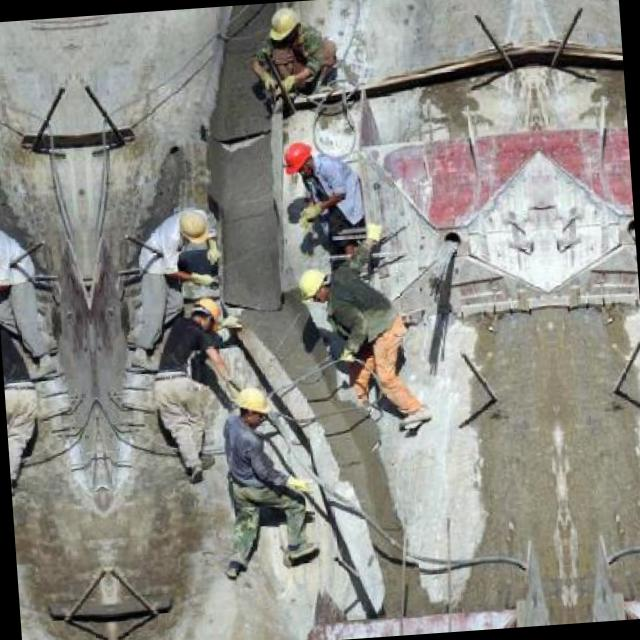helmet: (264, 3, 304, 56), (288, 264, 335, 306), (184, 290, 224, 332), (232, 384, 270, 428), (278, 136, 314, 180), (170, 207, 210, 245)
